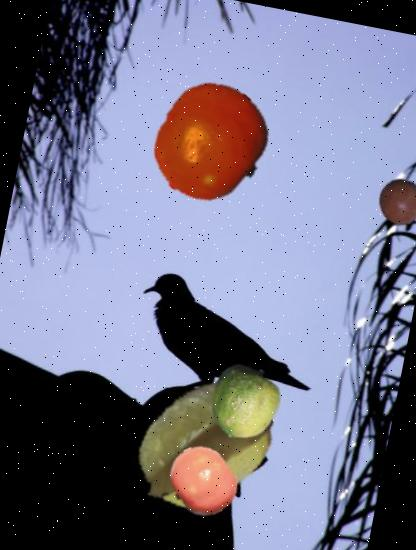Carambula: (117, 359, 288, 530)
Clementine: (140, 73, 280, 214), (160, 439, 244, 523)
Limes: (200, 358, 287, 446)
Pomegranate: (373, 171, 416, 234)
